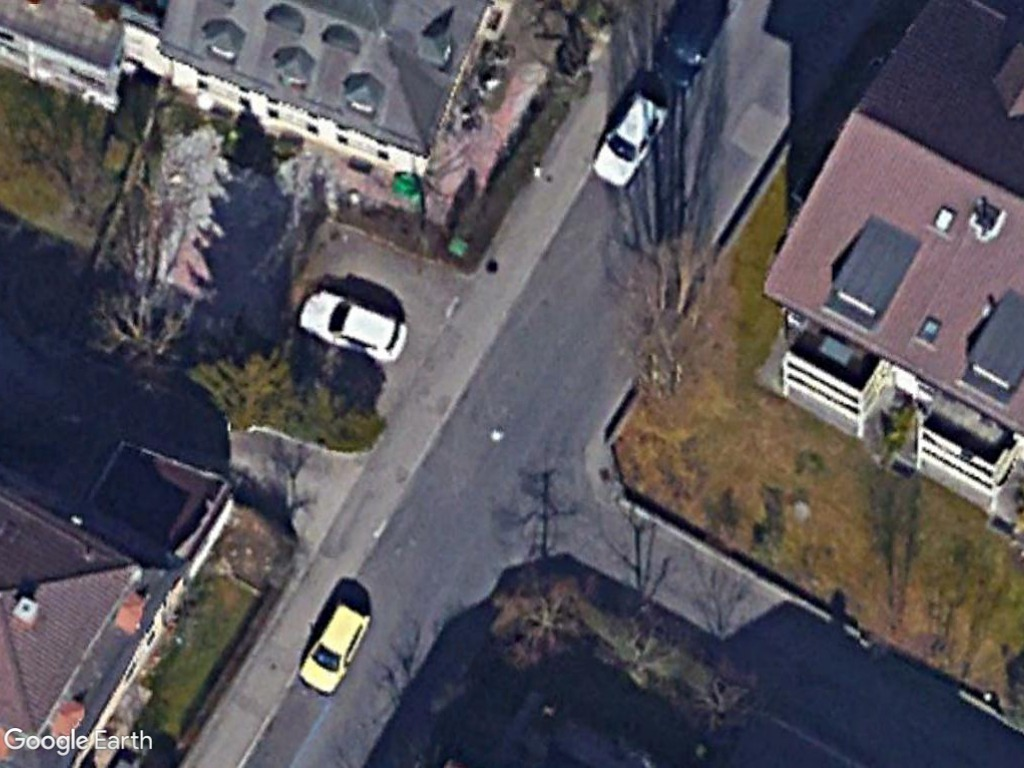car: (297, 283, 413, 370), (586, 87, 671, 194), (296, 595, 377, 701)
